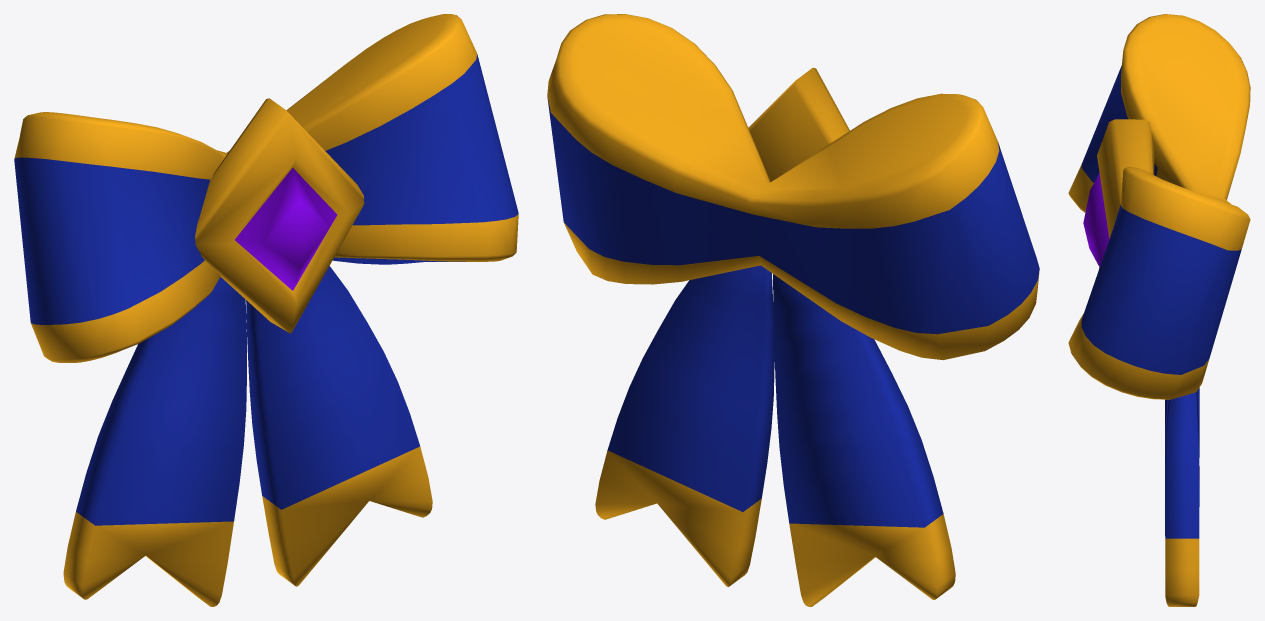
Rendered from bow.glb.
The picture shows the model from 3 angles, left to right: view 1: azimuth 30°, elevation 25°; view 2: azimuth 150°, elevation 25°; view 3: azimuth 270°, elevation 25°; orthographic projection. The views are drawn at different scales.
Parts seen in each view (by area): view 1: bow_flat_v1; view 2: bow_flat_v1; view 3: bow_flat_v1.
Part boxes in pixels (box(x1,y1,x2,y2)): bow_flat_v1: box(14, 14, 518, 606); bow_flat_v1: box(547, 14, 1039, 606); bow_flat_v1: box(1068, 14, 1250, 606).
Bounding box in the file's own units: 0.9224 × 0.9995 × 0.352.
